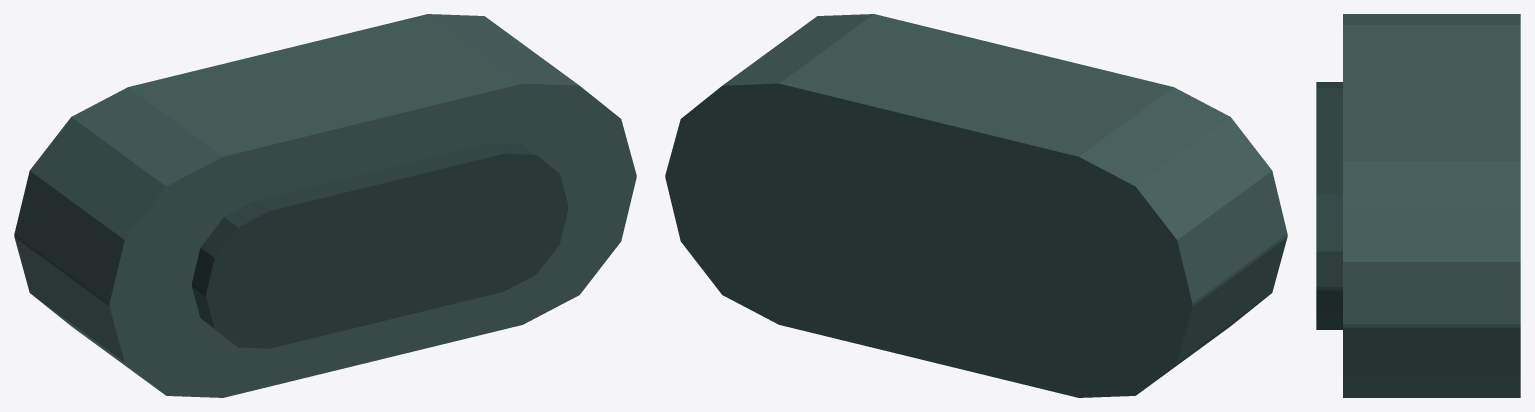
File: Signal_LampOff.gltf
3 views of the same model, side by side, from view 1: azimuth 30°, elevation 25°; view 2: azimuth 150°, elevation 25°; view 3: azimuth 270°, elevation 25° (orthographic). The views are drawn at different scales.
Parts seen in each view (by area): view 1: Signal_LampOff_baked; view 2: Signal_LampOff_baked; view 3: Signal_LampOff_baked.
Boxes of the visible parts, x1=… form: Signal_LampOff_baked: x1=14, y1=14, x2=636, y2=397; Signal_LampOff_baked: x1=665, y1=14, x2=1287, y2=397; Signal_LampOff_baked: x1=1316, y1=14, x2=1520, y2=397.
Bounding box in the file's own units: 0.32 × 0.14 × 0.115.
